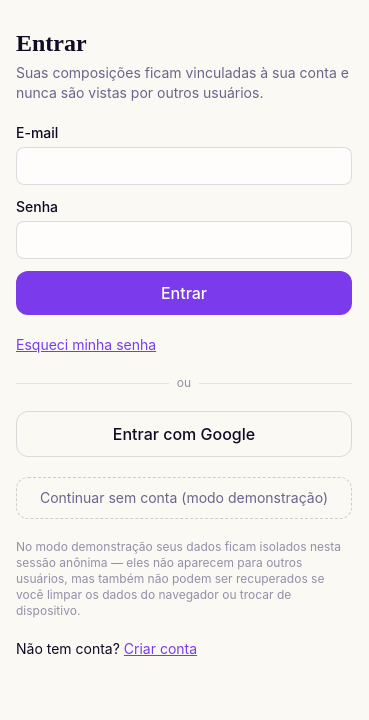
Test case: Login — Google popup sign-in › shows a friendly message and retry/fullscreen options when the popup is blocked
Click the button "Entrar com Google" at [184, 434], box [16,411,352,457]
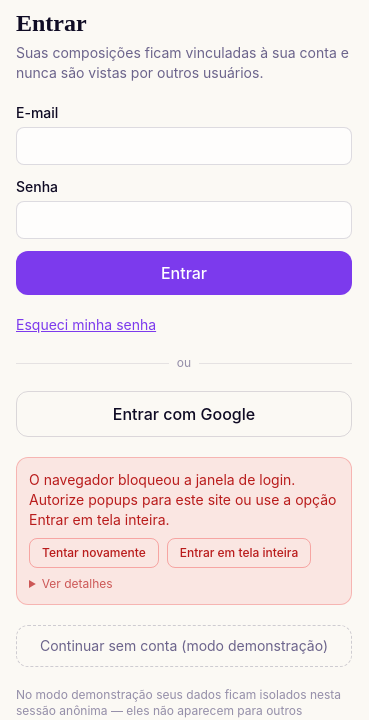
Check: the message is shown, box [16,457,352,605]
Check: the text "O navegador bloqueou a janela de login" is shown, box [29,471,336,528]
Check: the button "Tentar novamente" is shown, box [29,538,159,568]
